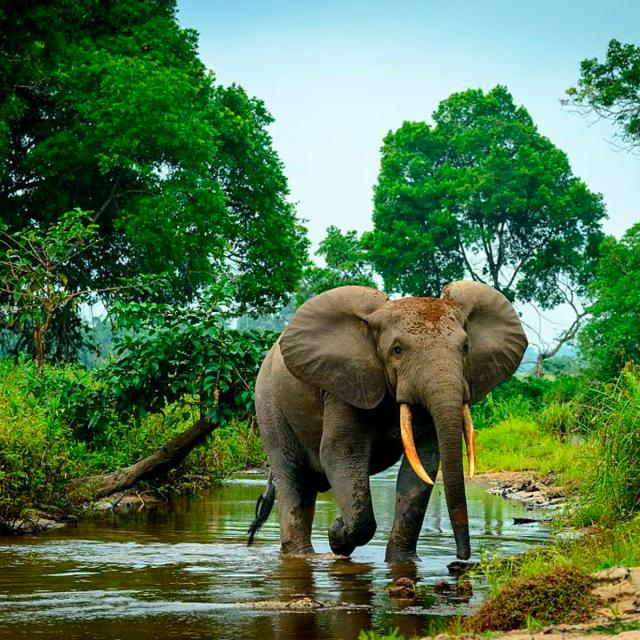elephant: (249, 281, 528, 562)
